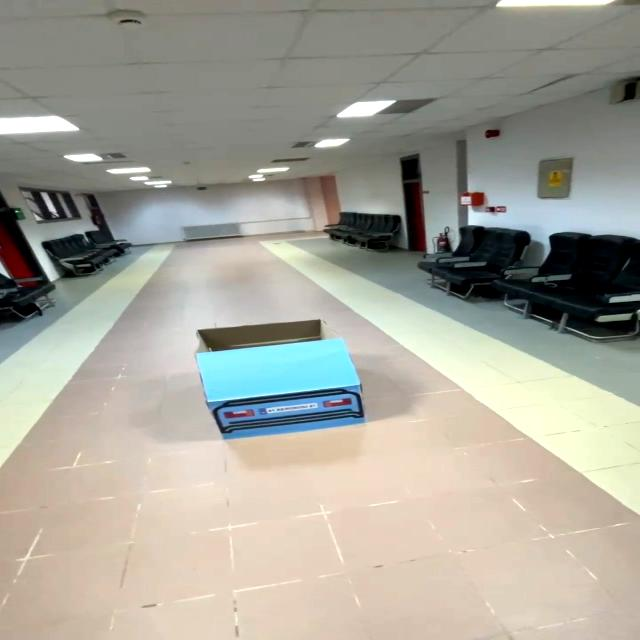blue_car: (185, 306, 381, 459)
